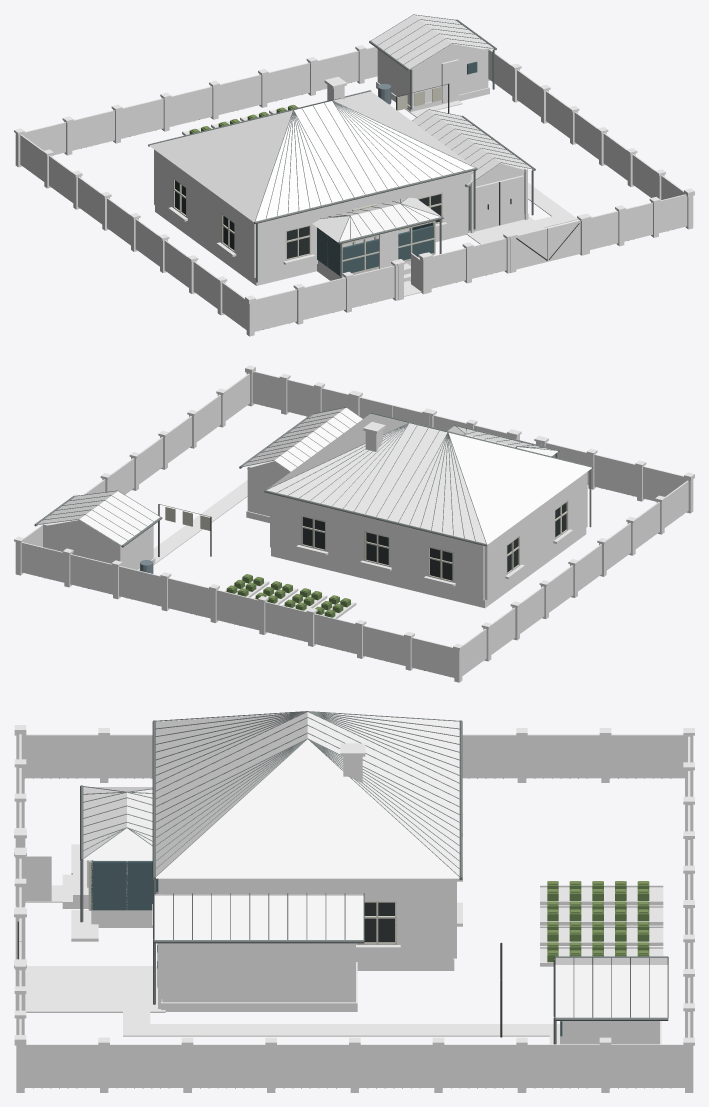
The picture shows the model from 3 angles, top to bottom: view 1: azimuth 30°, elevation 25°; view 2: azimuth 150°, elevation 25°; view 3: azimuth 270°, elevation 25°; orthographic projection. The views are drawn at different scales.
Parts seen in each view (by area): view 1: ParcelGeometry.017, SummerPlanting.015; view 2: ParcelGeometry.017, SummerPlanting.015; view 3: ParcelGeometry.017, SummerPlanting.015.
Boxes of the visible parts, left/top/right/bottom form: ParcelGeometry.017: left=14, top=14, right=694, bottom=336; SummerPlanting.015: left=189, top=86, right=442, bottom=133; ParcelGeometry.017: left=14, top=365, right=694, bottom=682; SummerPlanting.015: left=165, top=507, right=350, bottom=617; ParcelGeometry.017: left=14, top=711, right=694, bottom=1092; SummerPlanting.015: left=547, top=881, right=649, bottom=962.
Size of the model in its own units: 23.08 by 5.96 by 21.1.
